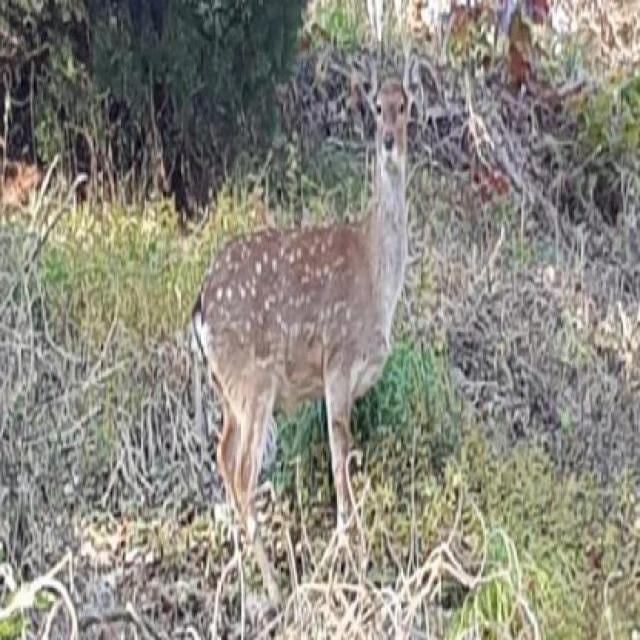deer: (196, 47, 422, 581)
